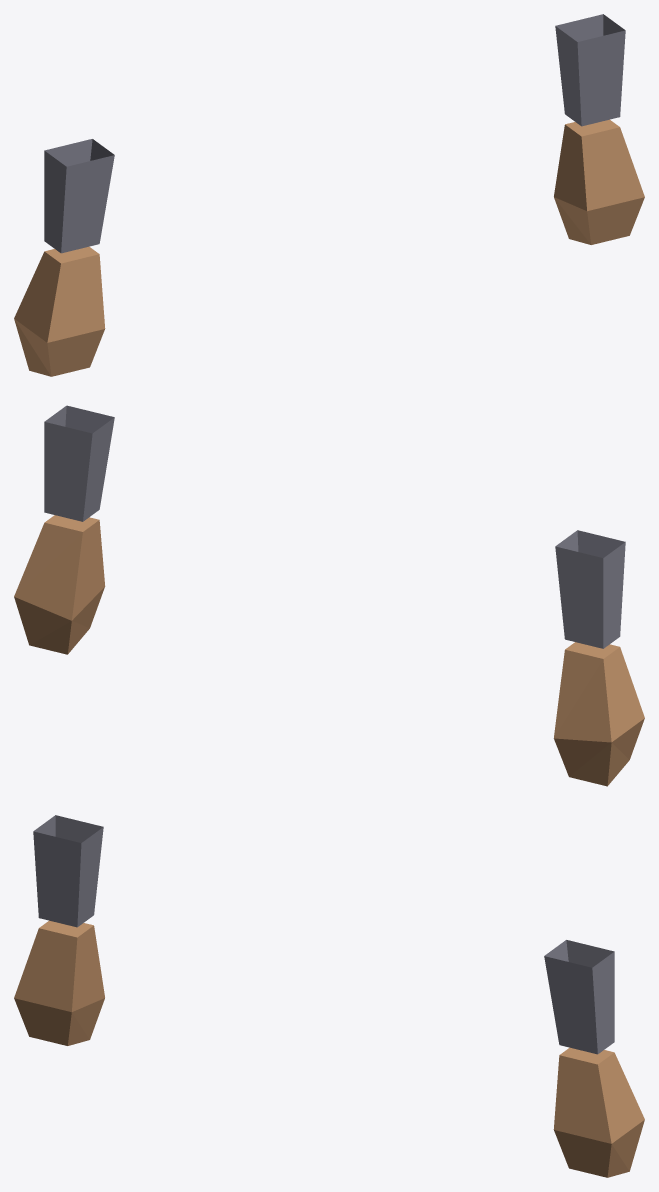
File: player_female_hands_69_0.obj
The picture shows the model from 3 angles, top to bottom: view 1: azimuth 30°, elevation 25°; view 2: azimuth 150°, elevation 25°; view 3: azimuth 330°, elevation 25°; orthographic projection.
Size of the model in its own units: 0.4844 by 0.1719 by 0.0469.
